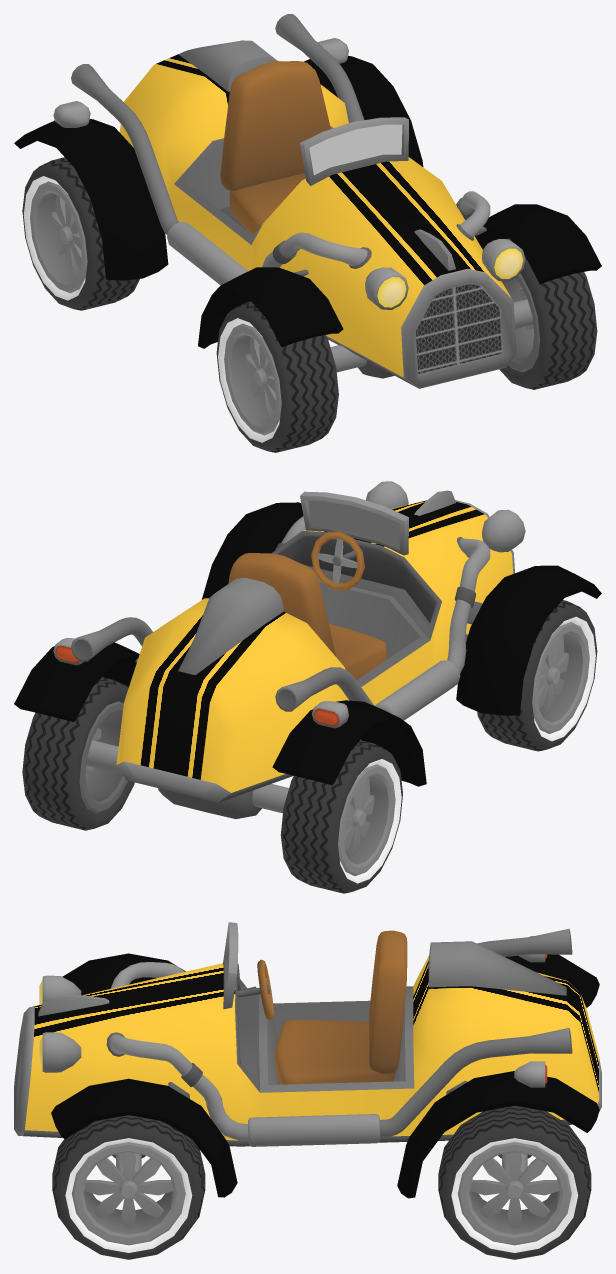
Rendered from car.glb.
The picture shows the model from 3 angles, top to bottom: view 1: azimuth 30°, elevation 25°; view 2: azimuth 150°, elevation 25°; view 3: azimuth 270°, elevation 25°; orthographic projection.
Parts seen in each view (by area): view 1: Car, wheel2, wheel4, wheel1, Windshield; view 2: Car, wheel4, wheel3, wheel2, Windshield, Steering; view 3: Car, wheel3, wheel1, Steering.
Boxes of the visible parts, left/top/right/bottom form: Car: left=14, top=14, right=601, bottom=388; wheel2: left=216, top=301, right=338, bottom=452; wheel4: left=22, top=157, right=139, bottom=310; wheel1: left=499, top=238, right=597, bottom=389; Windshield: left=309, top=124, right=402, bottom=175; Car: left=14, top=481, right=601, bottom=818; wheel4: left=280, top=740, right=402, bottom=893; wheel3: left=22, top=677, right=134, bottom=830; wheel2: left=477, top=600, right=597, bottom=751; Windshield: left=307, top=500, right=400, bottom=547; Steering: left=311, top=531, right=364, bottom=590; Car: left=14, top=922, right=601, bottom=1198; wheel3: left=438, top=1105, right=591, bottom=1259; wheel1: left=52, top=1115, right=205, bottom=1259; Steering: left=238, top=959, right=273, bottom=1020.
Size of the model in its own units: 1.76 by 1.31 by 2.8.
1 material, 1 textured.
